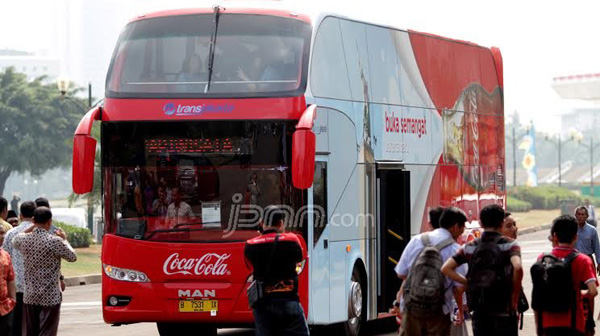plate: (180, 298, 216, 315)
